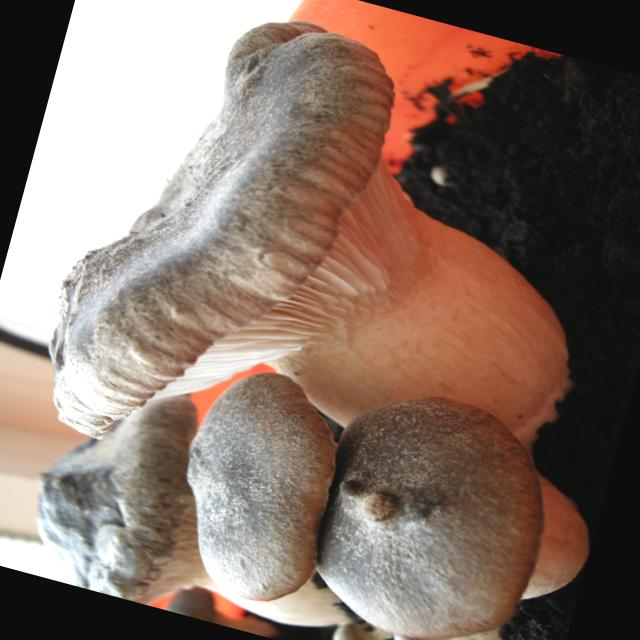Pleurotus eryngii: (23, 0, 636, 550), (157, 335, 600, 640), (15, 365, 390, 640)
